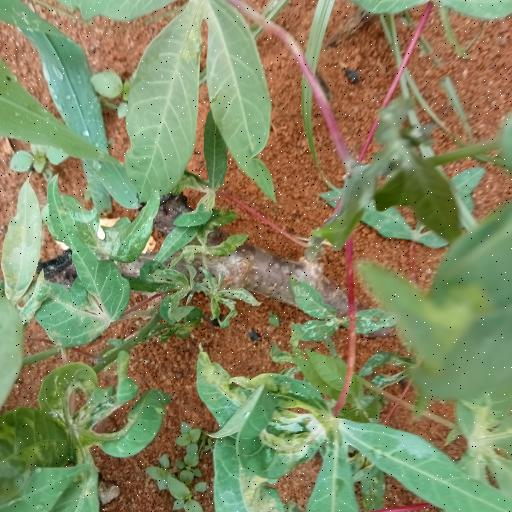Cassava_Mosaic: (198, 355, 427, 512), (0, 368, 147, 510)
